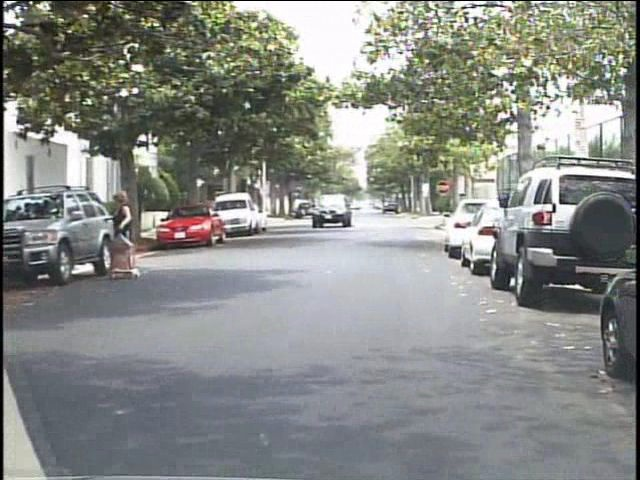person: (111, 186, 147, 280)
